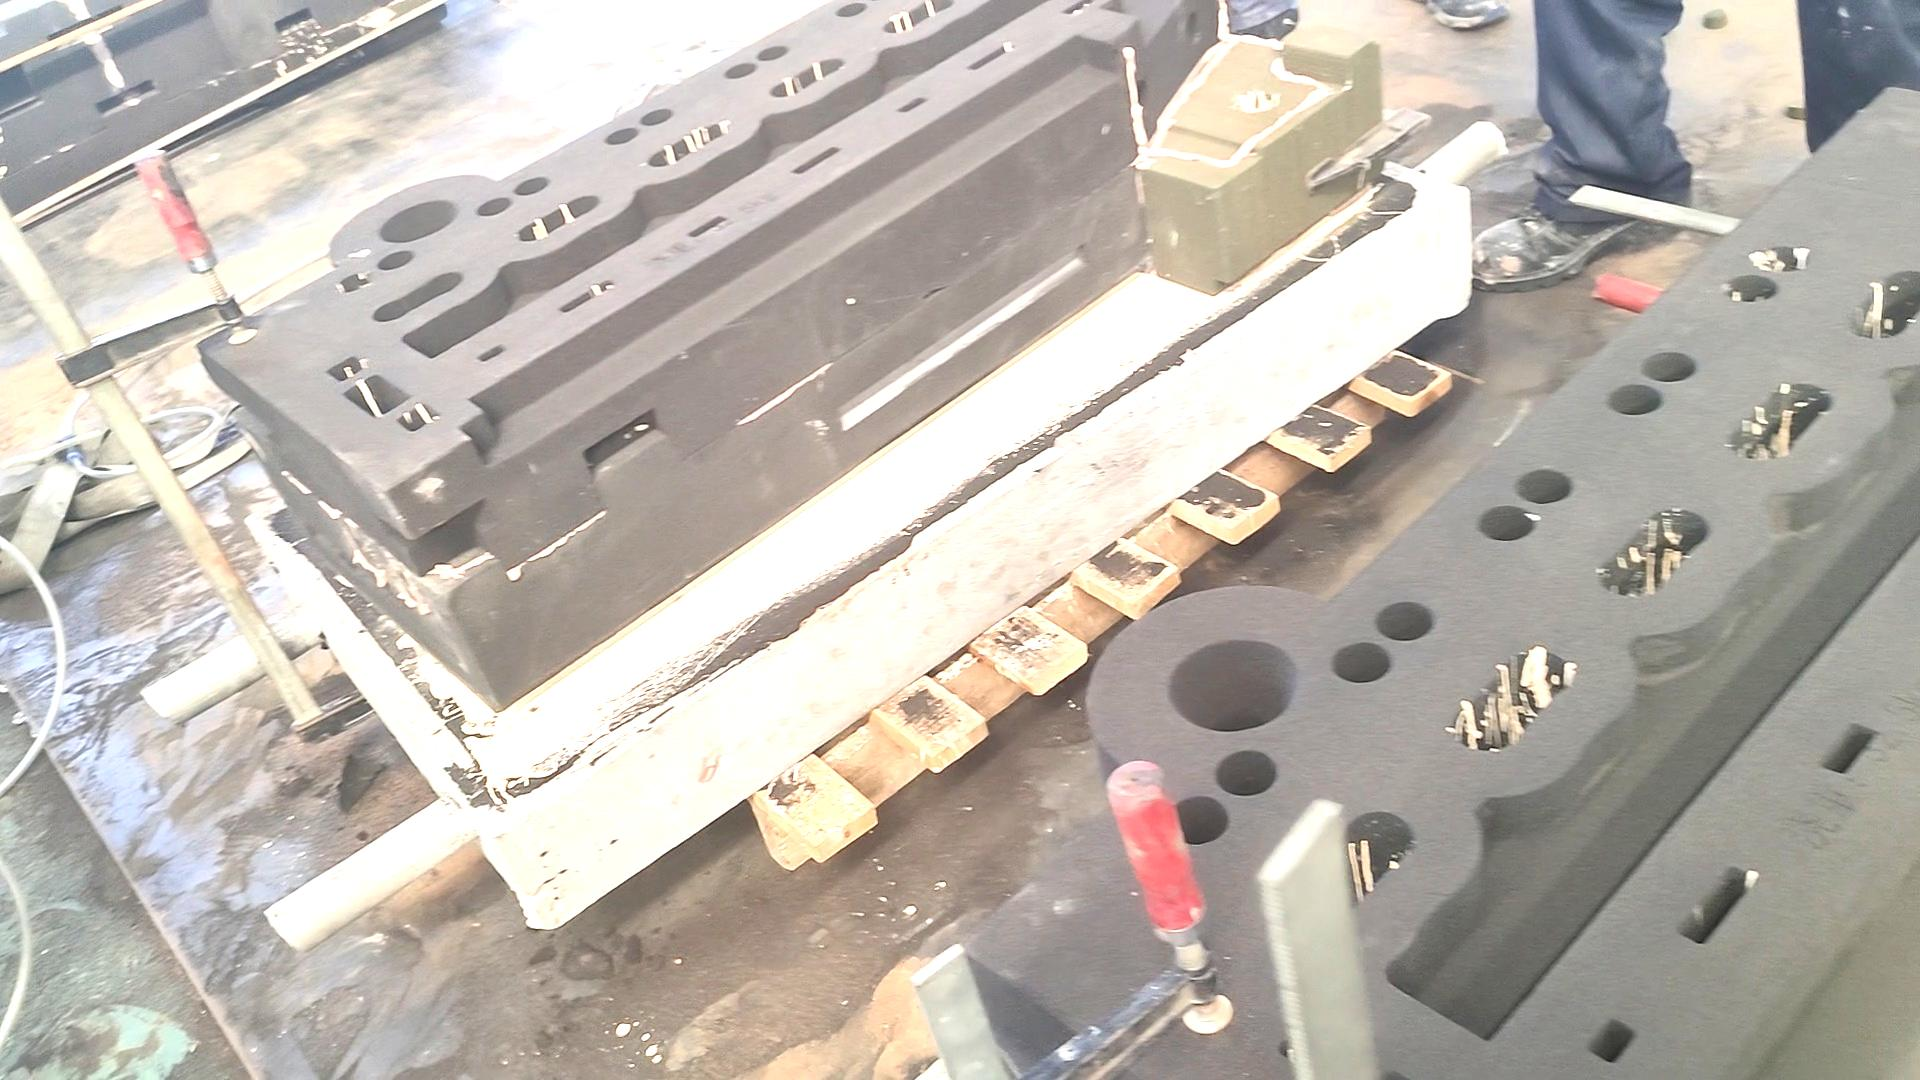pouring hole: (1164, 640, 1302, 733), (378, 199, 458, 244)
